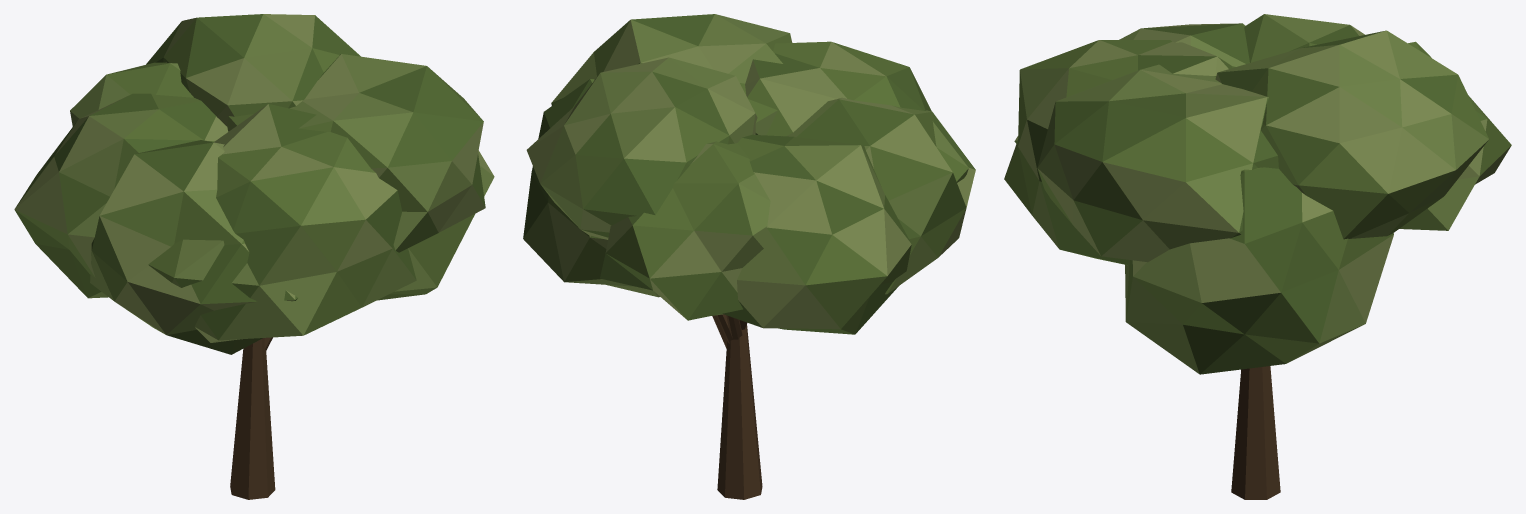
File: Tree07.obj
3 views of the same model, side by side, from view 1: azimuth 30°, elevation 25°; view 2: azimuth 150°, elevation 25°; view 3: azimuth 270°, elevation 25° (orthographic). The views are drawn at different scales.
Visible parts, largest first — view 1: Crown.006, Trunk.006; view 2: Crown.006, Trunk.006; view 3: Crown.006, Trunk.006.
Boxes of the visible parts, <box> form: Crown.006: <box>14,14,494,354</box>; Trunk.006: <box>230,337,275,499</box>; Crown.006: <box>523,14,975,334</box>; Trunk.006: <box>712,314,762,499</box>; Crown.006: <box>1004,14,1511,374</box>; Trunk.006: <box>1231,366,1280,499</box>.
Size of the model in its own units: 6.87 by 6.98 by 6.81.
